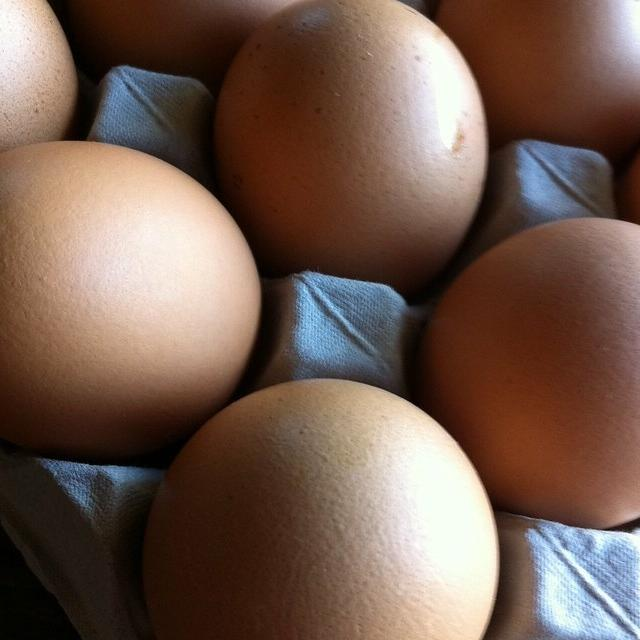egg: (140, 377, 500, 640), (0, 139, 261, 459), (211, 0, 488, 293), (414, 216, 640, 529), (64, 0, 315, 81), (0, 0, 78, 186)
